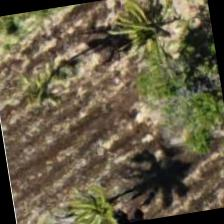Kelapa_Sawit: (0, 42, 98, 146), (91, 0, 195, 95), (47, 159, 147, 223)
